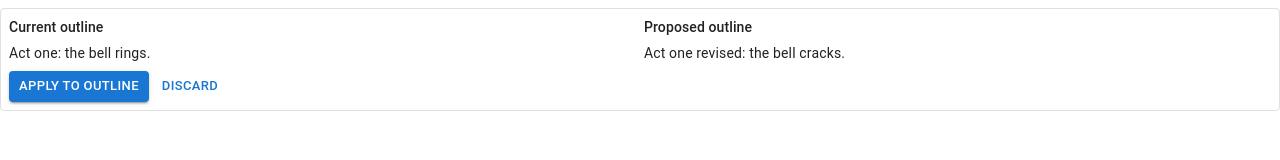
Scenario: OutlineRevisionPreview › apply needs confirmation before replacing the outline
Later steps or results of the test are not shown.
Click the button "Apply to outline" at (79, 86), box [9,71,149,102]
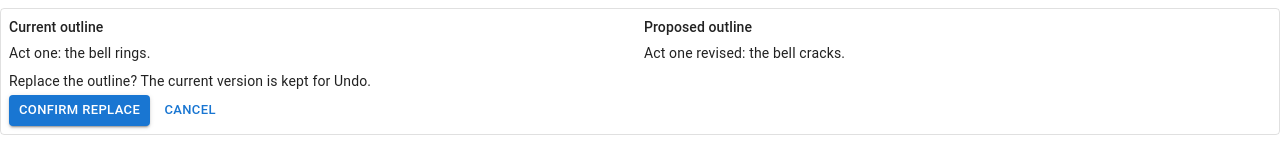
Now the text "Replace the outline" is shown, box [9,73,371,89]
Click the button "Cancel" at (190, 110), box [158,95,222,126]
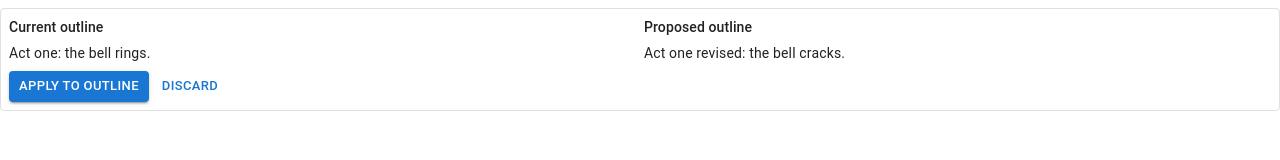
Now the text "Replace the outline?" is gone
